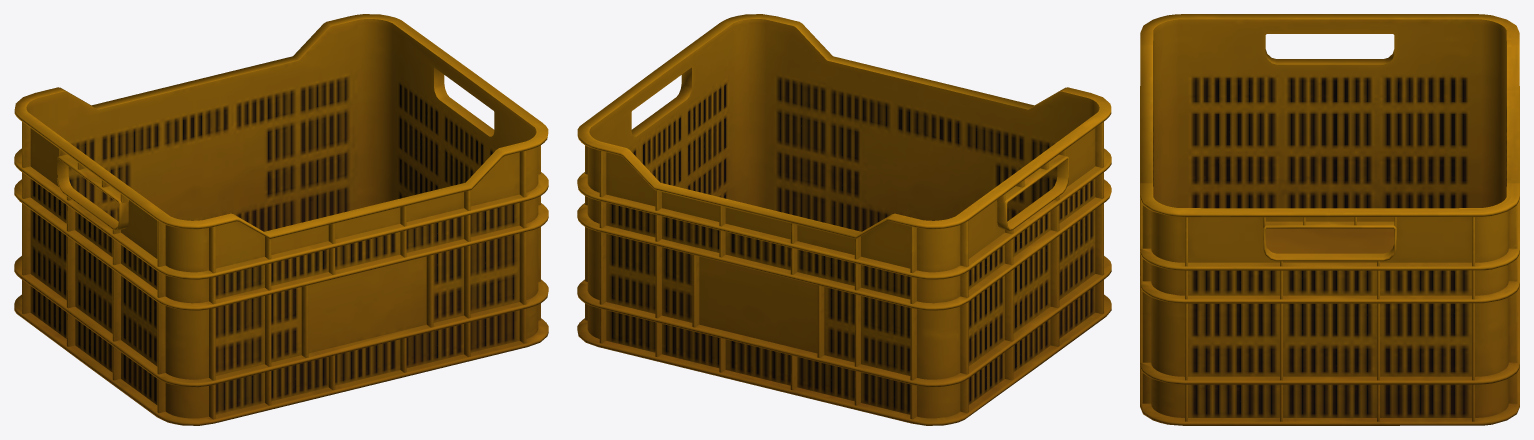
The model's file is plastic_crate_02.glb.
The picture shows the model from 3 angles, left to right: view 1: azimuth 30°, elevation 25°; view 2: azimuth 150°, elevation 25°; view 3: azimuth 270°, elevation 25°; orthographic projection. The views are drawn at different scales.
Visible parts, largest first — view 1: plastic_crate_02; view 2: plastic_crate_02; view 3: plastic_crate_02.
Boxes of the visible parts, x1,y1,x2,y2 form: plastic_crate_02: (14, 14, 548, 425); plastic_crate_02: (577, 14, 1111, 425); plastic_crate_02: (1140, 14, 1519, 425).
Size of the model in its own units: 0.5055 by 0.2541 by 0.4055.
1 material, 1 textured.
